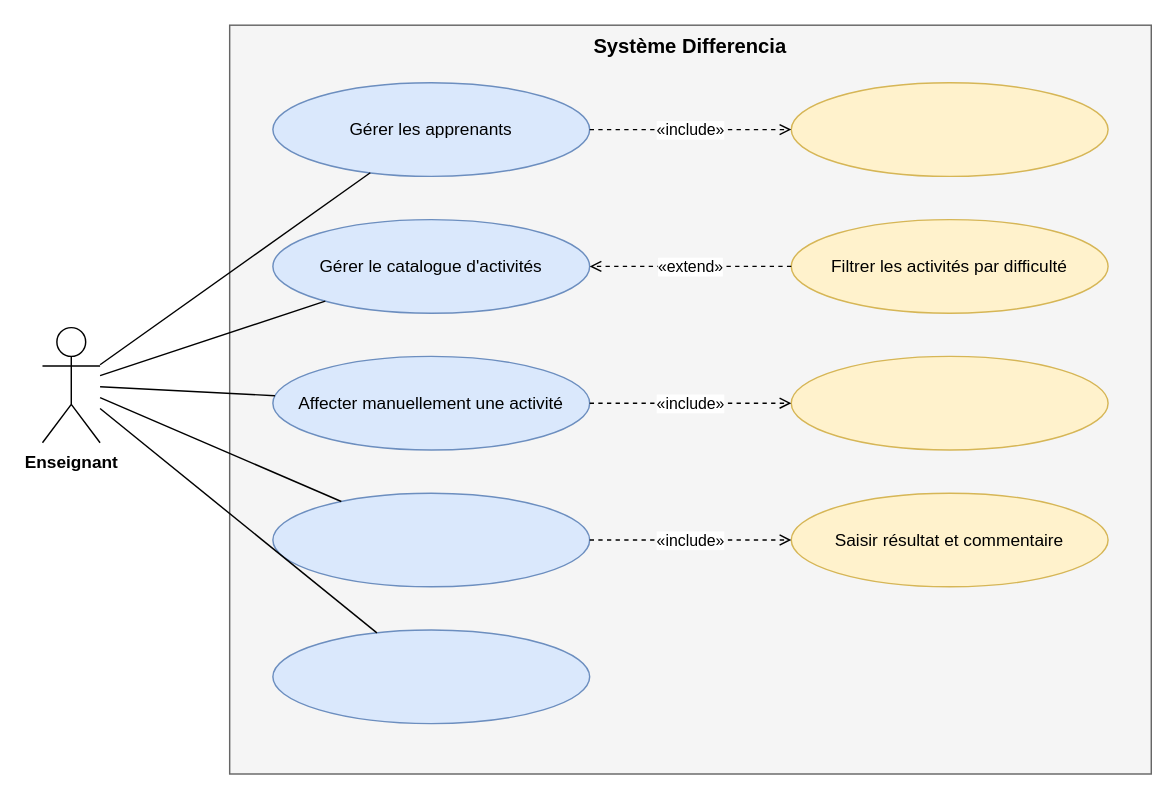
The diagram is 1176 pixels wide and 799 high, and some of its shapes have lost their labels. The shapes that lost their labels are listed below. From the top down, each one's box as (x1, y1, x2, y2) in pixels, then its label:
(790, 81, 1108, 176): Définir le niveau actuel
(790, 355, 1108, 450): Voir les activités suggérées
(271, 492, 590, 587): Suivre l'avancement des affectations
(271, 629, 590, 724): Consulter le tableau de bord par niveau
